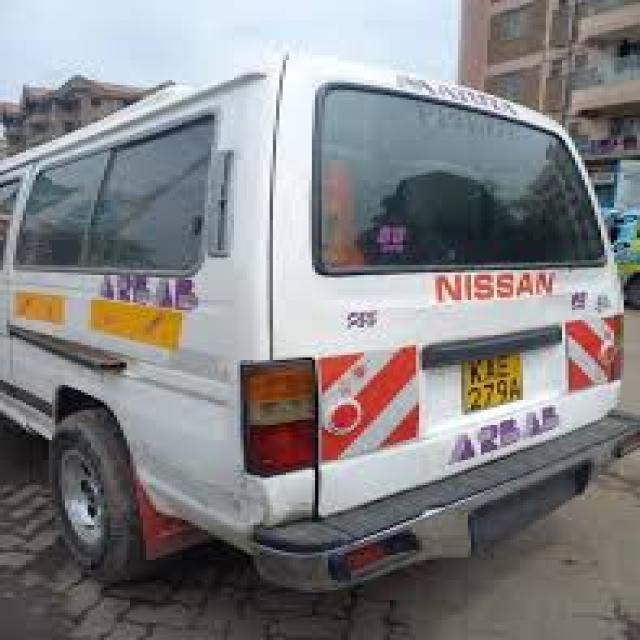matatu: (0, 38, 637, 615)
